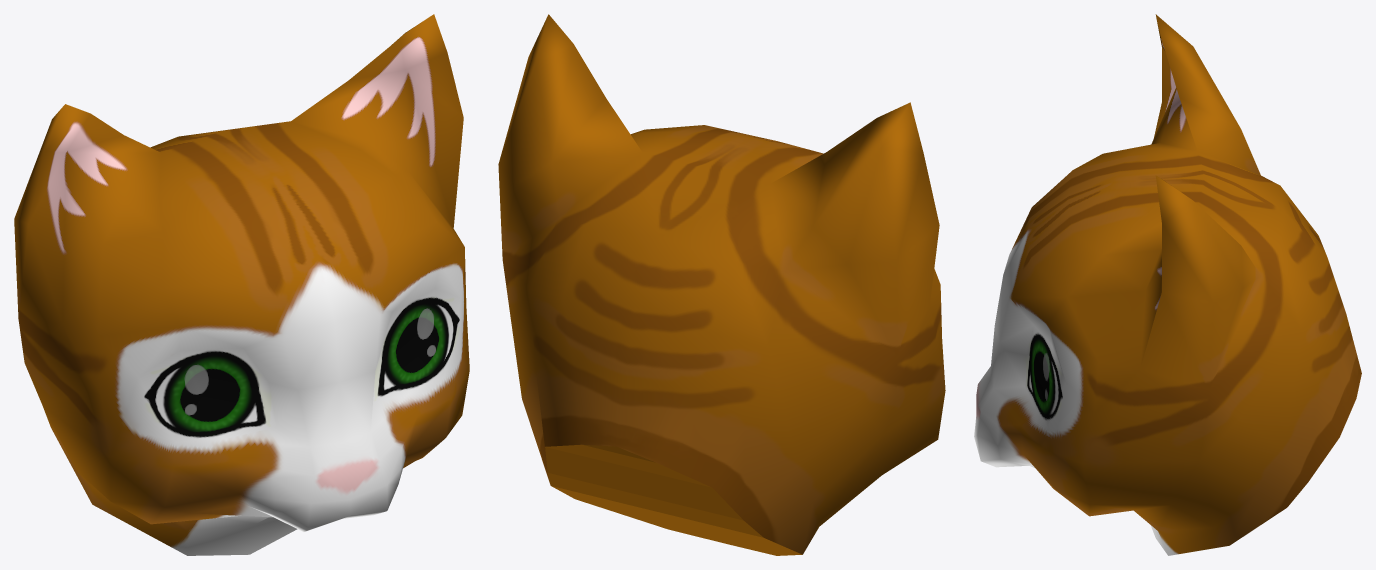
Rendered from eyes.glb.
3 views of the same model, side by side, from view 1: azimuth 30°, elevation 25°; view 2: azimuth 150°, elevation 25°; view 3: azimuth 270°, elevation 25° (orthographic). The views are drawn at different scales.
Parts seen in each view (by area): view 1: cat; view 2: cat; view 3: cat.
Part boxes in pixels (x1=…): cat: x1=14, y1=14, x2=469, y2=555; cat: x1=498, y1=14, x2=945, y2=555; cat: x1=974, y1=14, x2=1361, y2=555.
Size of the model in its own units: 0.0956 by 0.1041 by 0.0825.
1 material, 1 textured.
